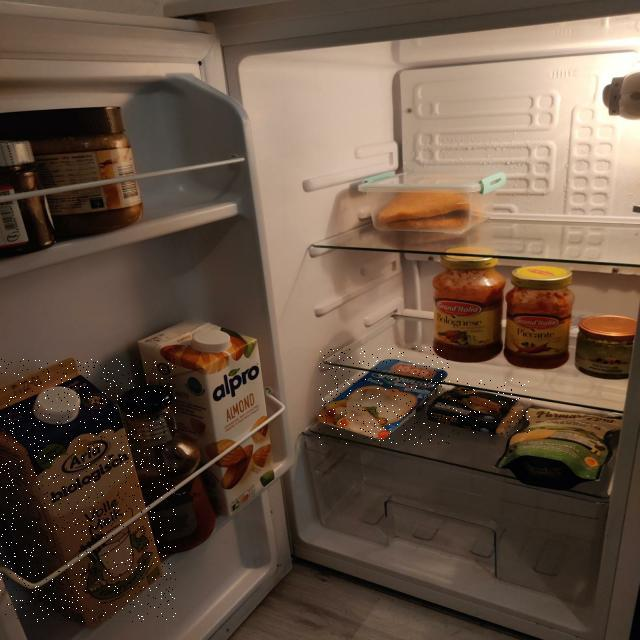cheese: (320, 346, 450, 445), (415, 378, 532, 436)
milk: (0, 359, 176, 622)
